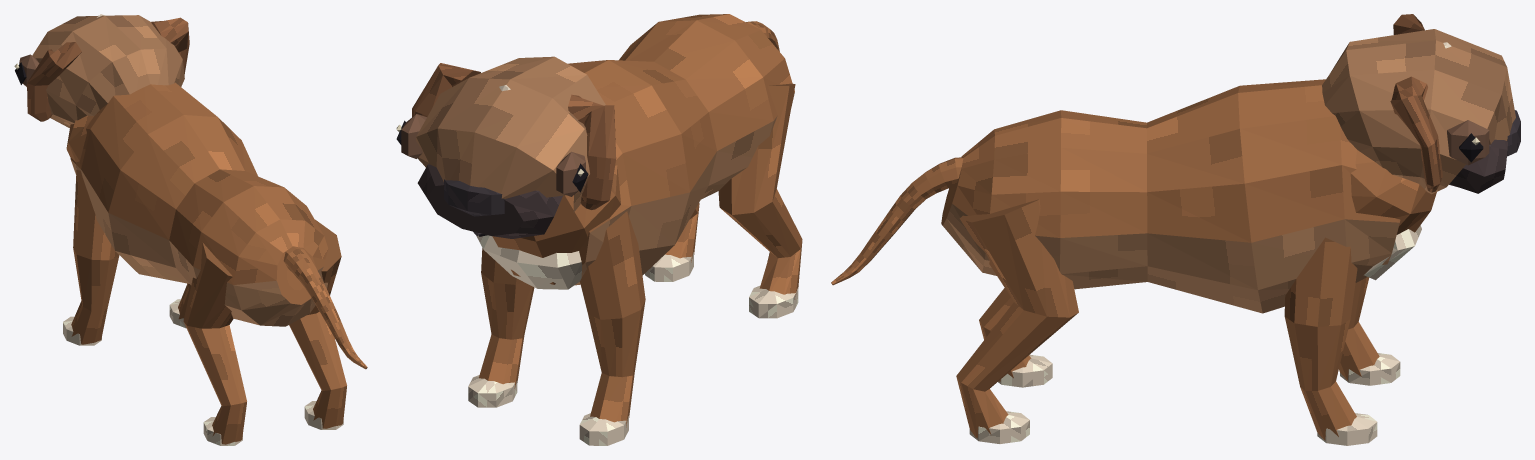
File: mon_dog_boxer_pup.glb
3 views of the same model, side by side, from view 1: azimuth 30°, elevation 25°; view 2: azimuth 150°, elevation 25°; view 3: azimuth 270°, elevation 25° (orthographic). The views are drawn at different scales.
Parts seen in each view (by area): view 1: closed_body; view 2: closed_body; view 3: closed_body.
Boxes of the visible parts, left/top/right/bottom form: closed_body: left=14, top=14, right=367, bottom=445; closed_body: left=396, top=14, right=802, bottom=445; closed_body: left=831, top=14, right=1520, bottom=445.
Bounding box in the file's own units: 0.1151 × 0.2 × 0.3351.
Materials: 1 (1 with a texture image).
